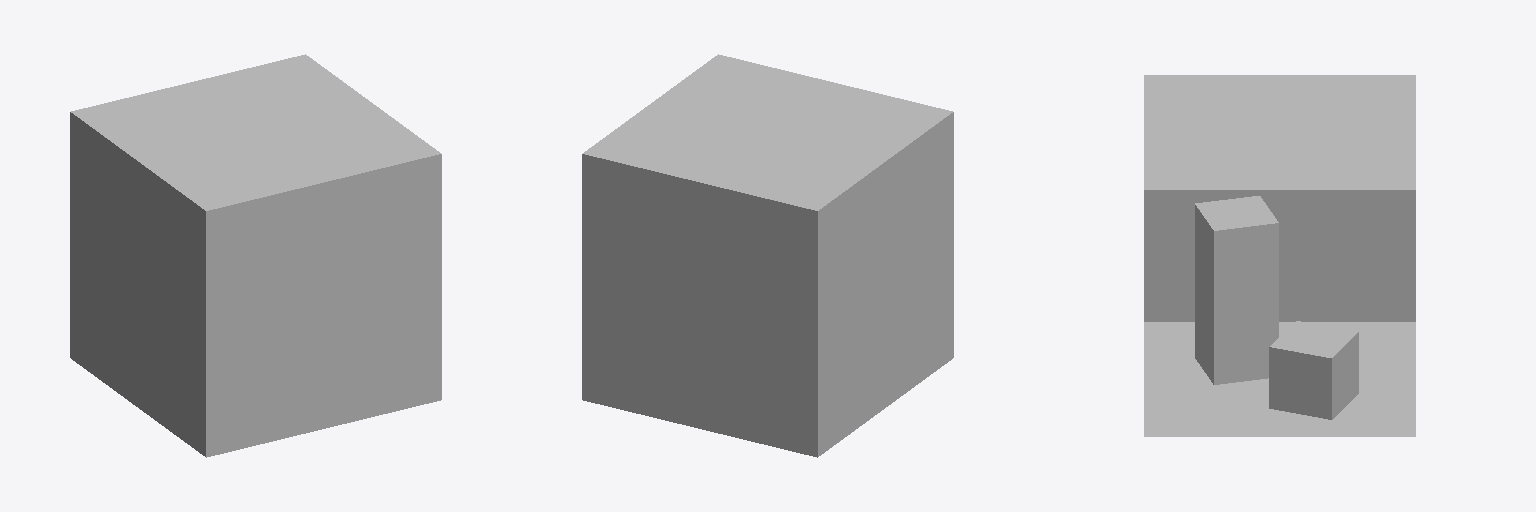
The model's file is my_cornell_2.obj.
3 views of the same model, side by side, from view 1: azimuth 30°, elevation 25°; view 2: azimuth 150°, elevation 25°; view 3: azimuth 270°, elevation 25° (orthographic).
Visible parts, largest first — view 1: LeftWall, BackWall, Ceiling, Light; view 2: RightWall, BackWall, Ceiling, Light; view 3: Ceiling, BackWall, Floor, Prism, Cube, Light.
Part boxes in pixels (x1,y1,x2,y2): LeftWall: (206, 154, 441, 457); BackWall: (70, 112, 205, 456); Ceiling: (71, 54, 440, 210); Light: (214, 114, 298, 150); RightWall: (582, 154, 817, 457); BackWall: (818, 112, 953, 456); Ceiling: (583, 54, 952, 210); Light: (725, 114, 809, 150); Ceiling: (1144, 75, 1415, 189); BackWall: (1144, 190, 1415, 321); Floor: (1144, 322, 1415, 436); Prism: (1195, 196, 1278, 384); Cube: (1269, 321, 1358, 419); Light: (1248, 119, 1311, 145).
Size of the model in its own units: 8 by 8 by 8.